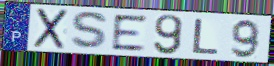9: (153, 13, 184, 56), (230, 18, 262, 59)
E: (111, 13, 149, 52)
L: (191, 17, 222, 55)
S: (68, 10, 112, 52)
X: (31, 7, 70, 51)
